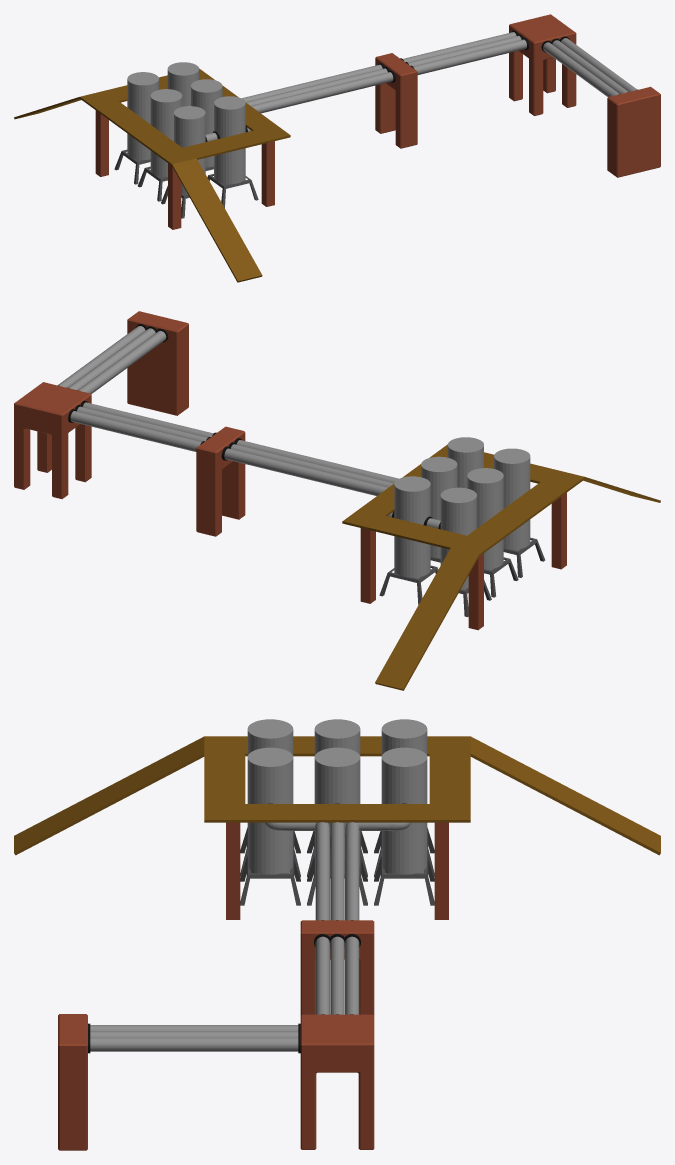
Rendered from Silos.fbx.
3 views of the same model, one above another, from view 1: azimuth 30°, elevation 25°; view 2: azimuth 150°, elevation 25°; view 3: azimuth 270°, elevation 25° (orthographic). The views are drawn at different scales.
Visible parts, largest first — view 1: Merged Silo, Platform.001, Pipes support.002, Pipes support.001, Pipes support, Support, Pipe.003; view 2: Merged Silo, Platform.001, Pipes support.001, Pipes support.002, Pipes support, Support, Pipe.003; view 3: Merged Silo, Platform.001, Pipes support.001, Pipe.003, Pipes support.002, Pipes support, Support.
Boxes of the visible parts, x1,y1,x2,y2 form: Merged Silo: [114, 32, 526, 218]; Platform.001: [14, 68, 290, 282]; Pipes support.002: [607, 86, 660, 177]; Pipes support.001: [509, 14, 576, 115]; Pipes support: [375, 53, 417, 148]; Support: [95, 110, 274, 229]; Pipe.003: [543, 38, 636, 96]; Merged Silo: [70, 402, 545, 617]; Platform.001: [342, 444, 660, 690]; Pipes support.001: [14, 382, 91, 498]; Pipes support.002: [127, 311, 188, 415]; Pipes support: [196, 426, 245, 536]; Support: [360, 492, 566, 630]; Pipe.003: [58, 326, 166, 394]; Merged Silo: [240, 719, 434, 1014]; Platform.001: [14, 736, 660, 855]; Pipes support.001: [300, 1014, 374, 1149]; Pipe.003: [90, 1025, 298, 1051]; Pipes support.002: [58, 1014, 87, 1150]; Pipes support: [300, 920, 374, 1015]; Support: [226, 822, 448, 919].
Bounding box in the file's own units: 10340 × 2212 × 9149.
